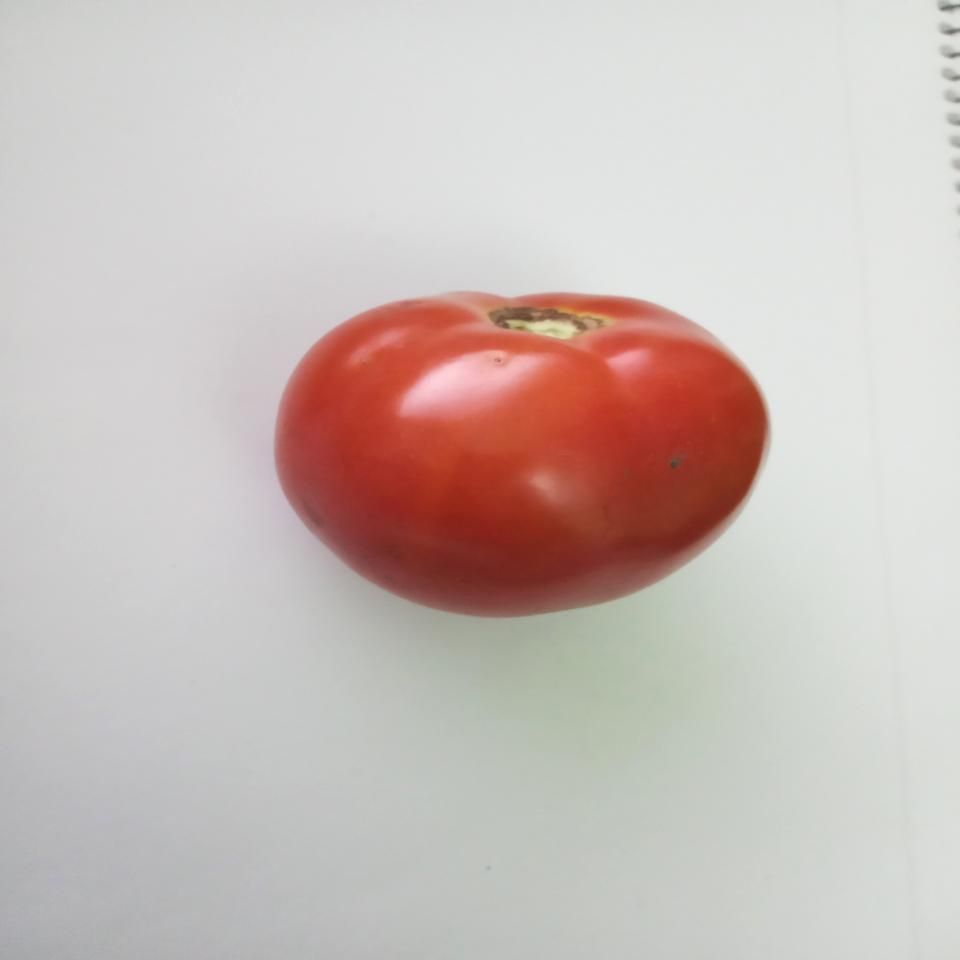Healthy: (265, 277, 777, 628)
